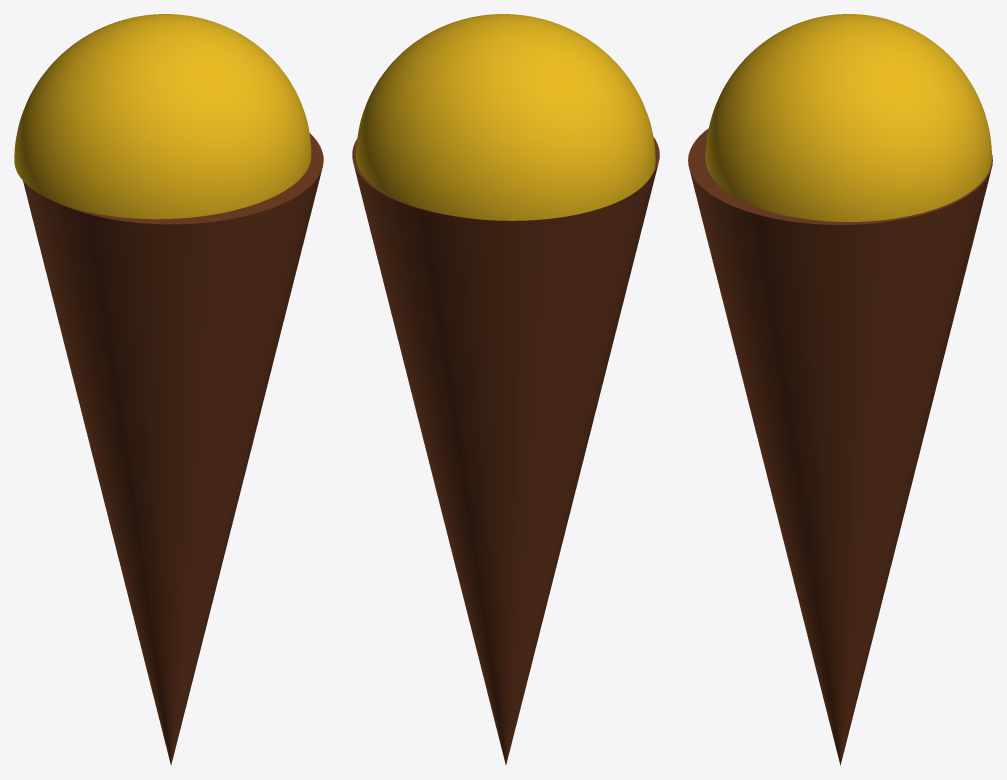
The model's file is icecream.gltf.
3 views of the same model, side by side, from view 1: azimuth 30°, elevation 25°; view 2: azimuth 150°, elevation 25°; view 3: azimuth 270°, elevation 25° (orthographic).
Parts seen in each view (by area): view 1: root.001; view 2: root.001; view 3: root.001.
Part boxes in pixels (x1,y1,x2,y2): root.001: [14, 14, 323, 765]; root.001: [352, 14, 659, 764]; root.001: [688, 14, 992, 765].
Size of the model in its own units: 0.892 by 2.36 by 0.8852.
2 materials, 2 textured.
